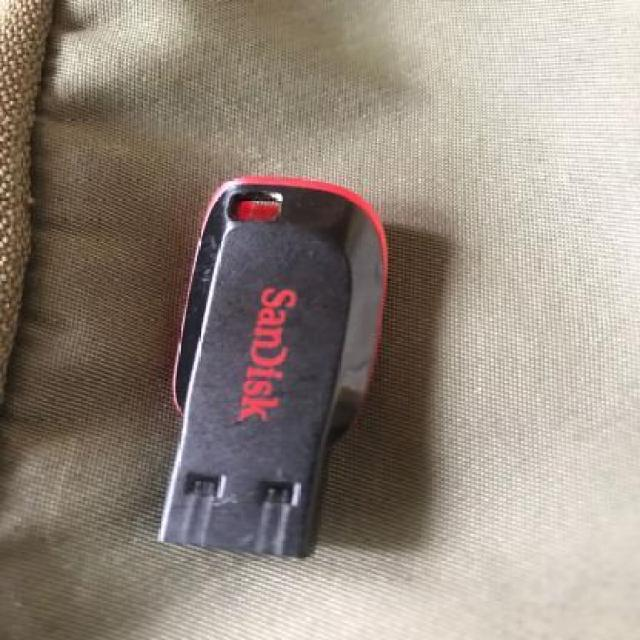Flashdisk: (145, 152, 452, 590)
